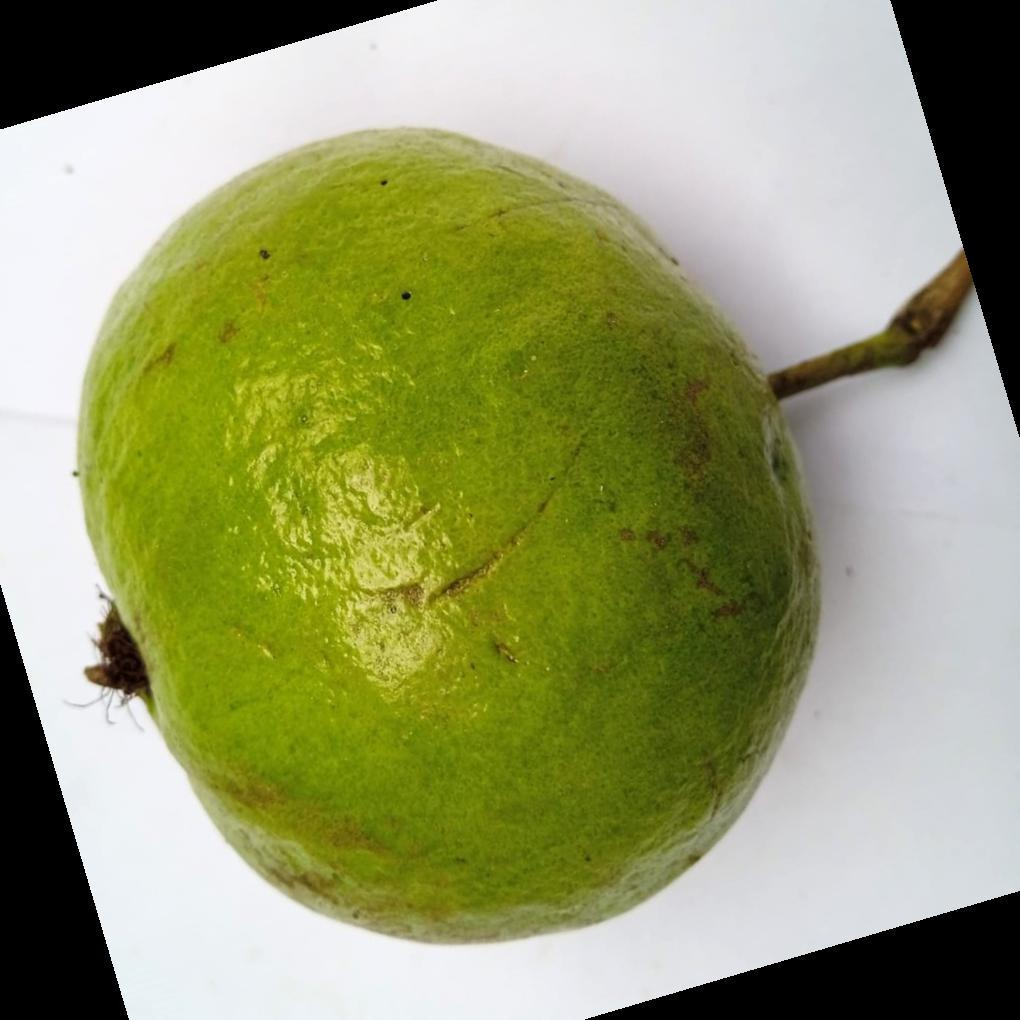FreshGuava: (71, 126, 823, 951)
